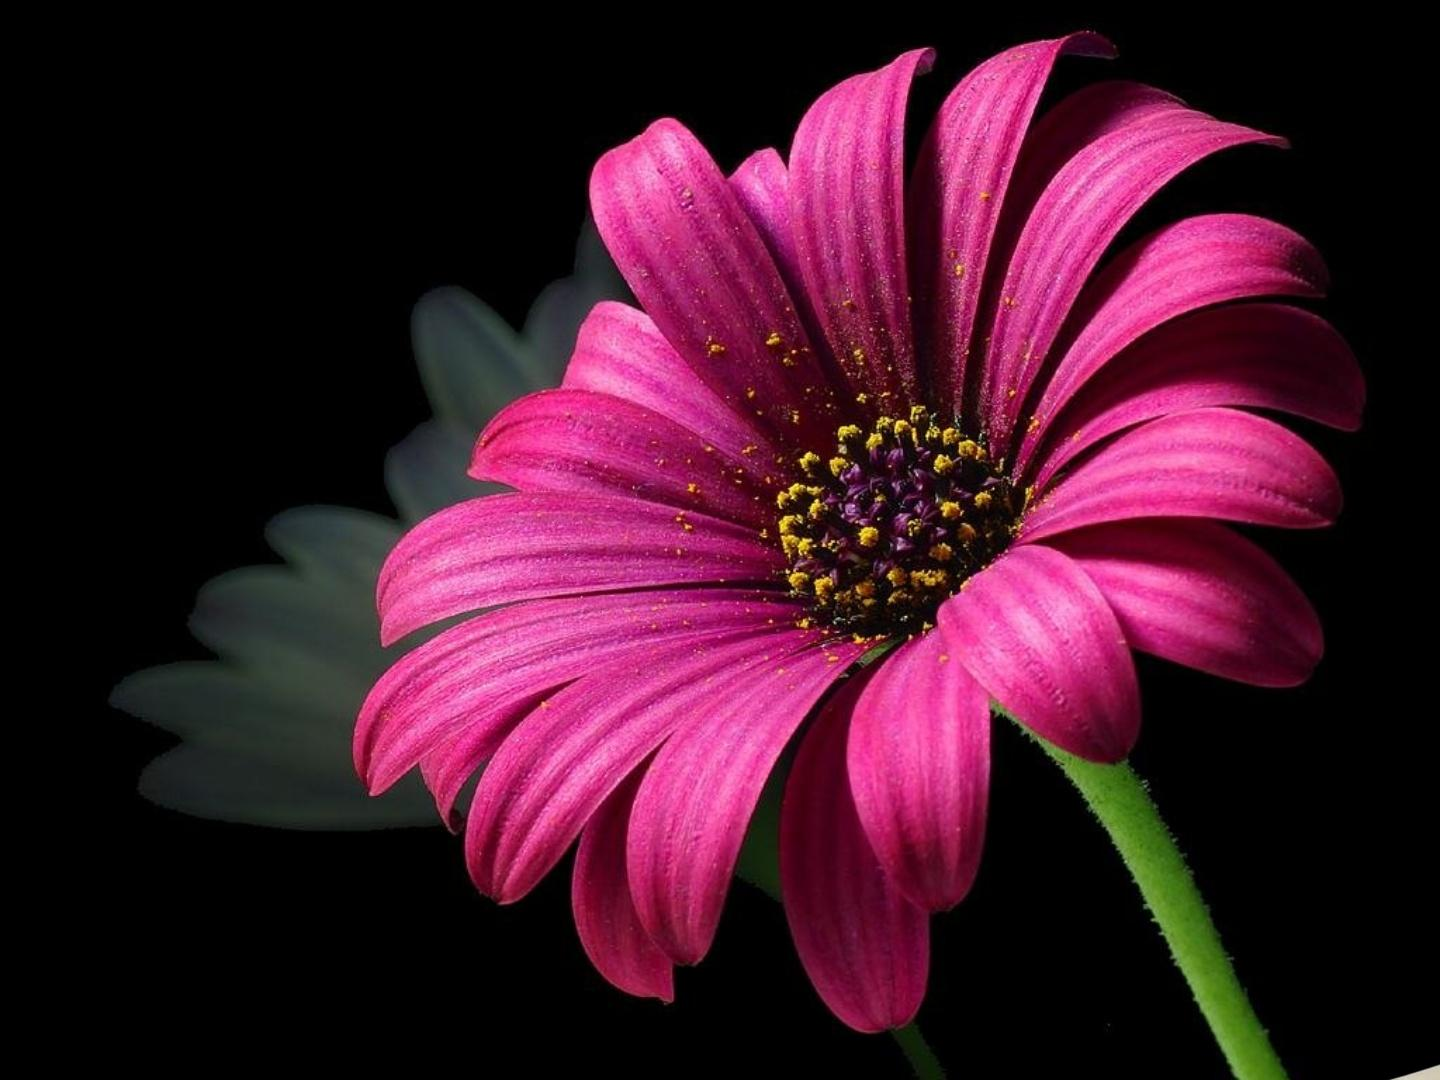paper: (1348, 1021, 1440, 1080)
